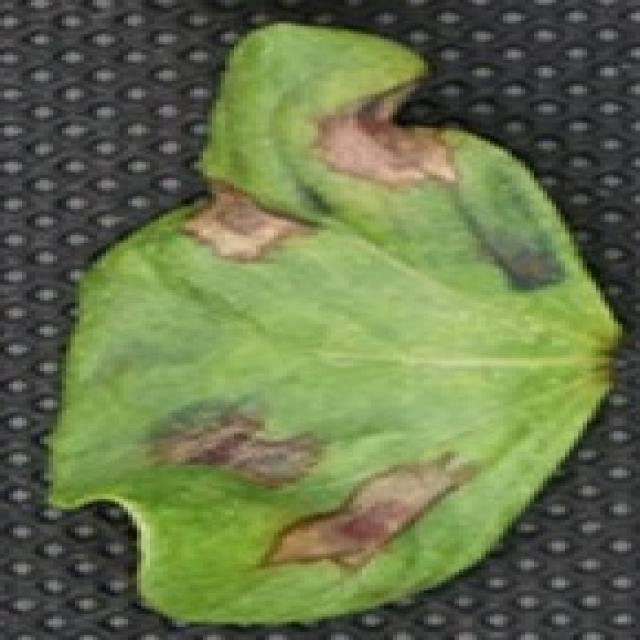Fusarium Wilt: (166, 409, 464, 564)
